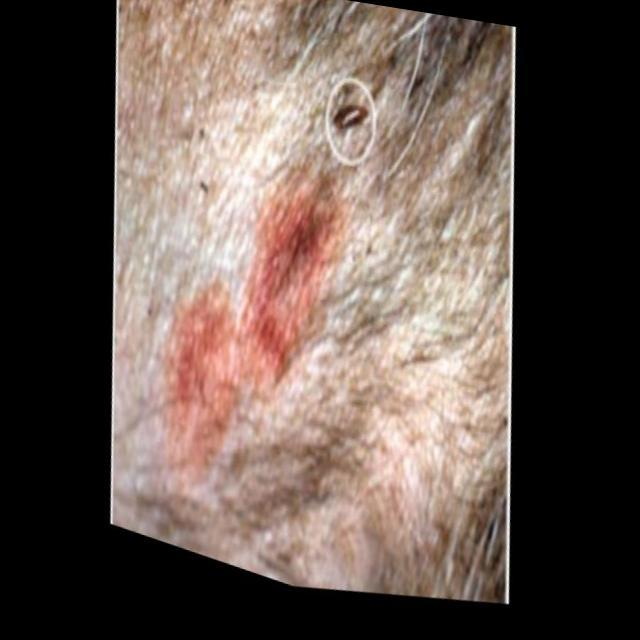allergic dermatitis: (150, 180, 336, 495)
